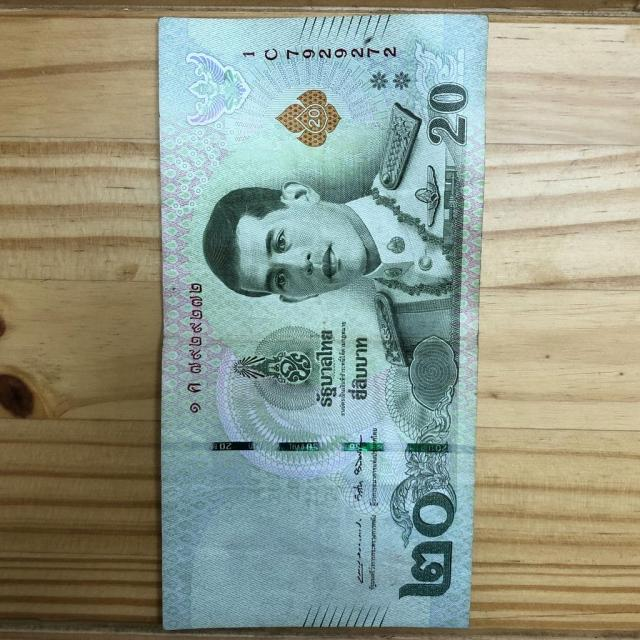THAI20: (159, 15, 488, 628)
